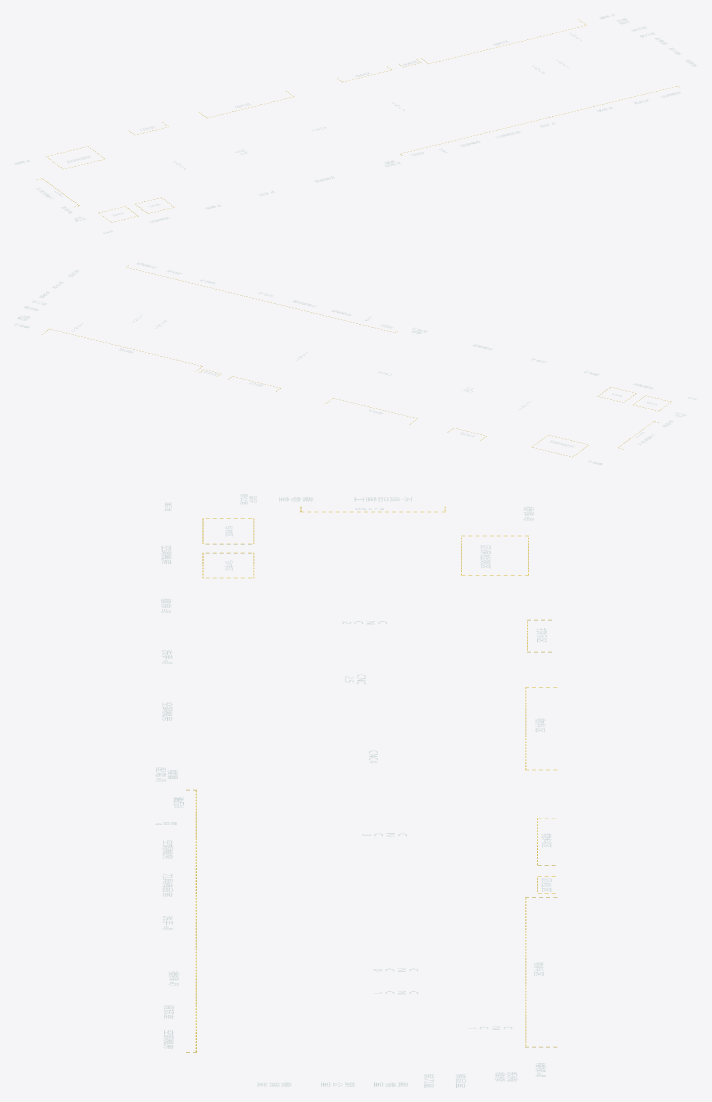
3 renders of one model, top to bottom at view 1: azimuth 30°, elevation 25°; view 2: azimuth 150°, elevation 25°; view 3: azimuth 270°, elevation 25°, orthographic. The views are drawn at different scales.
Size of the model in its own units: 4978 by 0.6411 by 1426.
